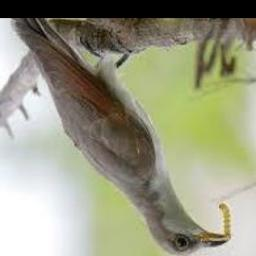Cuckoo: (11, 18, 228, 256)
